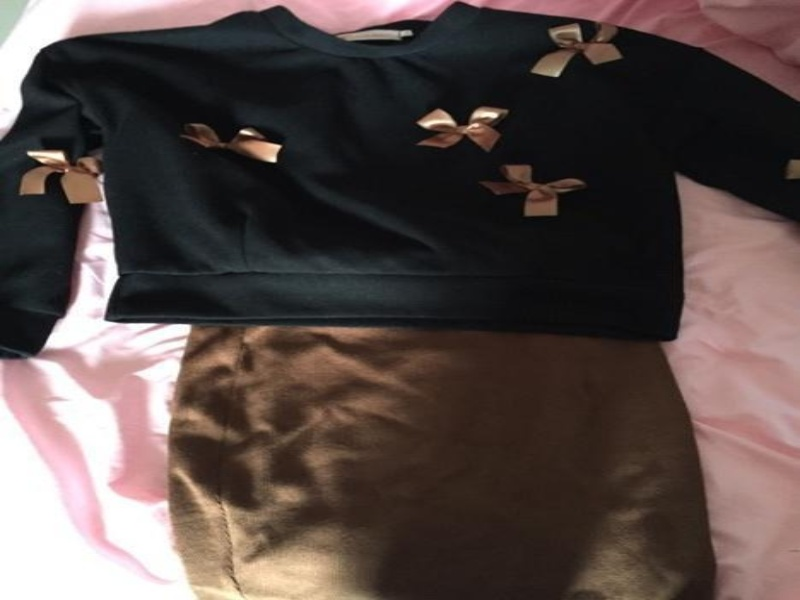long_sleeved_shirt: (0, 0, 798, 364)
skirt: (159, 279, 720, 599)
